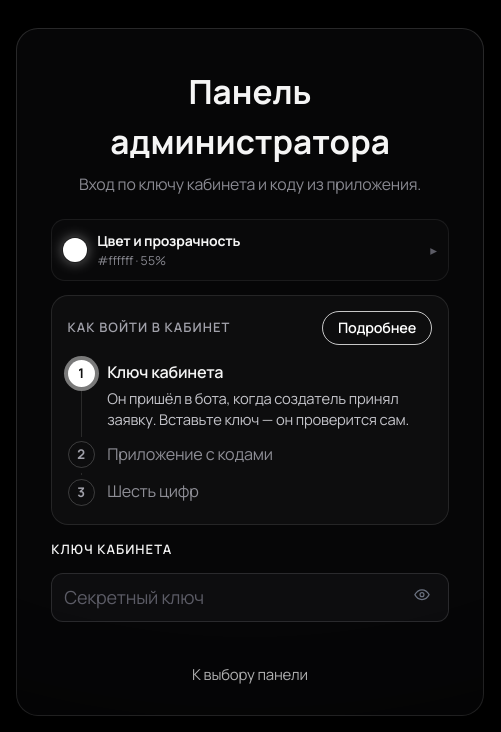
Test: GroupKeyPage › прячет кнопку кабинета, пока ключ не сошёлся
Step 1. Type "wrong-key-123" into the password field labelled "Ключ кабинета" → (250, 598), box [51,573,449,622]
Wait 800 ms
(page scrolled)
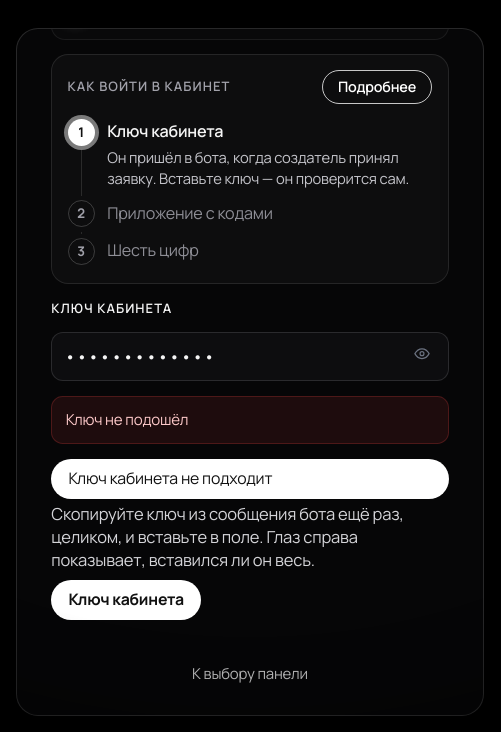
Check: the button "К выбору панели" is shown, box [184,646,316,690]
Check: the message "Ключ не подошёл" is shown, box [51,396,449,444]
